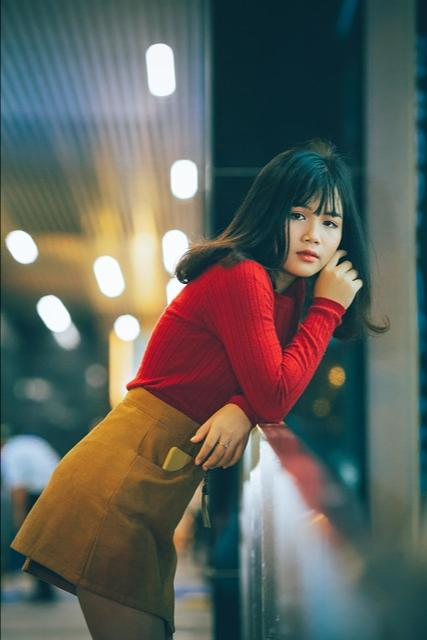Non_Gorille: (7, 40, 427, 630)
